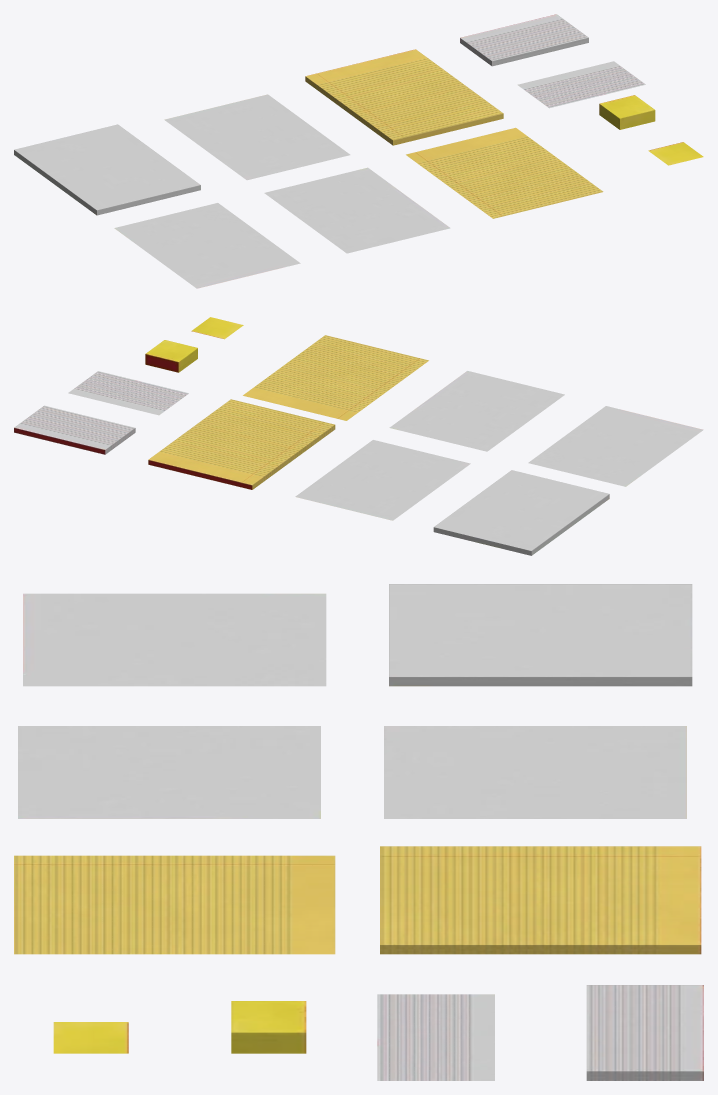
File: office_notepads.glb
3 views of the same model, one above another, from view 1: azimuth 30°, elevation 25°; view 2: azimuth 150°, elevation 25°; view 3: azimuth 270°, elevation 25° (orthographic). The views are drawn at different scales.
Visible parts, largest first — view 1: office_notepads_yellow_pad, office_notepads_yellow_sheet, office_notepads_a4_stack, office_notepads_a4_a, office_notepads_a4_b, office_notepads_a4_c, office_notepads_note_stack, office_notepads_note_sheet, office_notepads_sticky_stack, office_notepads_sticky_sheet; view 2: office_notepads_yellow_pad, office_notepads_yellow_sheet, office_notepads_a4_stack, office_notepads_a4_b, office_notepads_a4_c, office_notepads_a4_a, office_notepads_note_stack, office_notepads_note_sheet, office_notepads_sticky_stack, office_notepads_sticky_sheet; view 3: office_notepads_yellow_pad, office_notepads_yellow_sheet, office_notepads_a4_stack, office_notepads_a4_a, office_notepads_a4_b, office_notepads_a4_c, office_notepads_note_stack, office_notepads_note_sheet, office_notepads_sticky_stack, office_notepads_sticky_sheet.
Part boxes in pixels (box(x1,y1,x2,y2)): office_notepads_yellow_pad: box(305, 49, 503, 145); office_notepads_yellow_sheet: box(406, 127, 603, 218); office_notepads_a4_stack: box(14, 124, 200, 215); office_notepads_a4_a: box(114, 203, 300, 288); office_notepads_a4_b: box(164, 94, 350, 180); office_notepads_a4_c: box(264, 167, 450, 253); office_notepads_note_stack: box(460, 14, 588, 66); office_notepads_note_sheet: box(517, 61, 645, 108); office_notepads_sticky_stack: box(599, 95, 655, 129); office_notepads_sticky_sheet: box(648, 142, 703, 165); office_notepads_yellow_pad: box(148, 399, 335, 489); office_notepads_yellow_sheet: box(243, 335, 428, 420); office_notepads_a4_stack: box(433, 470, 609, 555); office_notepads_a4_b: box(295, 440, 470, 520); office_notepads_a4_c: box(389, 371, 564, 451); office_notepads_a4_a: box(528, 406, 703, 486); office_notepads_note_stack: box(14, 405, 135, 454); office_notepads_note_sheet: box(68, 371, 188, 415); office_notepads_sticky_stack: box(145, 340, 197, 372); office_notepads_sticky_sheet: box(191, 317, 243, 339); office_notepads_yellow_pad: box(380, 846, 701, 954); office_notepads_yellow_sheet: box(14, 855, 335, 954); office_notepads_a4_stack: box(389, 584, 692, 686); office_notepads_a4_a: box(23, 593, 326, 686); office_notepads_a4_b: box(384, 726, 686, 818); office_notepads_a4_c: box(18, 726, 320, 818); office_notepads_note_stack: box(586, 985, 703, 1080); office_notepads_note_sheet: box(377, 994, 494, 1080); office_notepads_sticky_stack: box(231, 1001, 306, 1053); office_notepads_sticky_sheet: box(53, 1022, 128, 1053).
Size of the model in its own units: 1.1 by 0.022 by 0.6598.
Materials: 1 (1 with a texture image).
